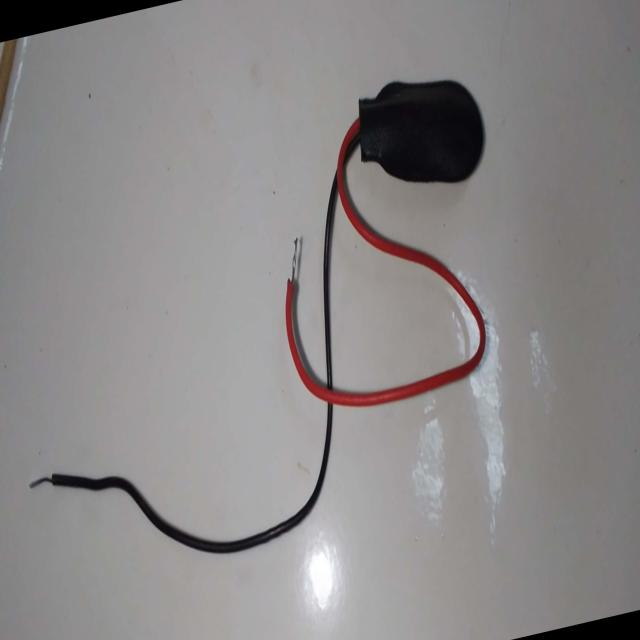Battery Holder: (263, 54, 512, 465)
